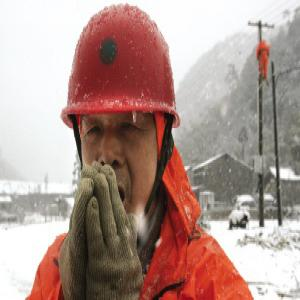red: (62, 6, 177, 220)
